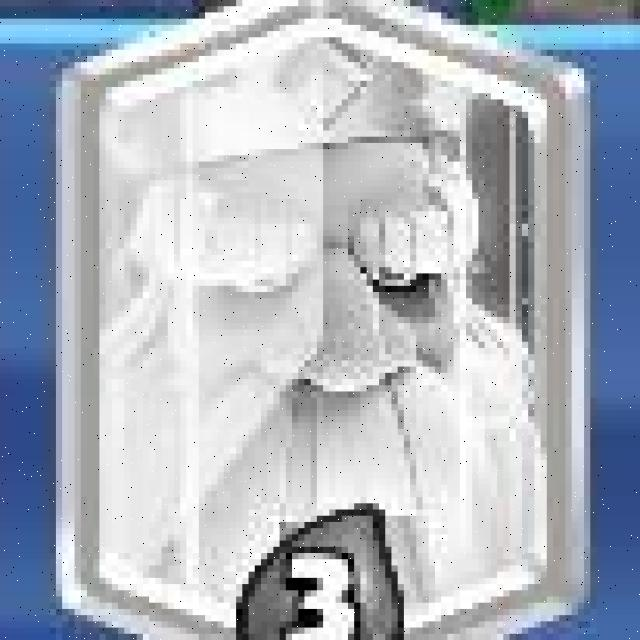Royal_Ghost: (46, 0, 592, 640)
